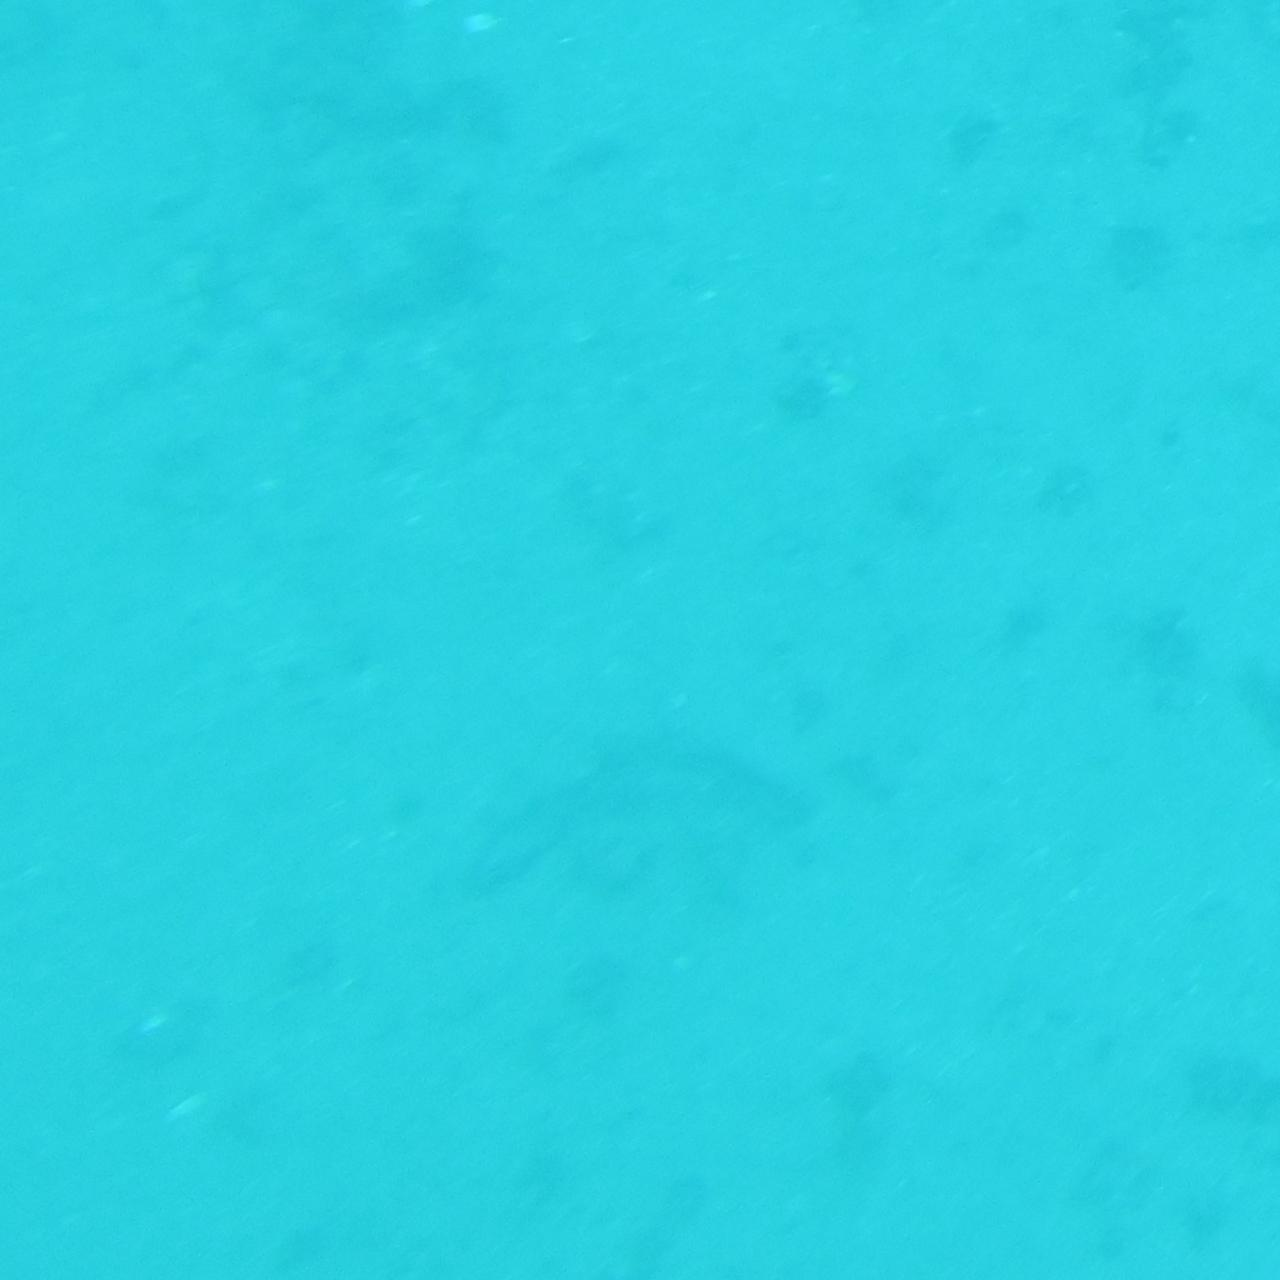Holothuria tubulosa: (439, 729, 826, 905)
